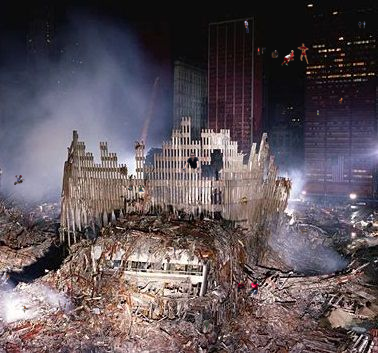Human: (182, 152, 200, 181), (237, 279, 260, 295), (297, 43, 309, 64), (281, 50, 295, 66), (126, 184, 145, 192), (14, 175, 25, 185), (261, 134, 270, 143), (256, 47, 266, 55), (339, 97, 348, 105), (271, 50, 280, 58), (244, 19, 249, 33), (204, 320, 210, 331), (358, 21, 366, 29), (297, 229, 307, 234), (22, 305, 26, 313), (6, 274, 10, 280), (85, 274, 89, 279), (244, 346, 247, 351), (173, 247, 176, 252), (128, 44, 131, 48), (105, 256, 107, 261), (51, 206, 53, 211), (317, 110, 319, 115), (64, 303, 66, 308)
